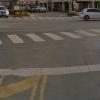Crosswalk: (6, 25, 99, 60)
